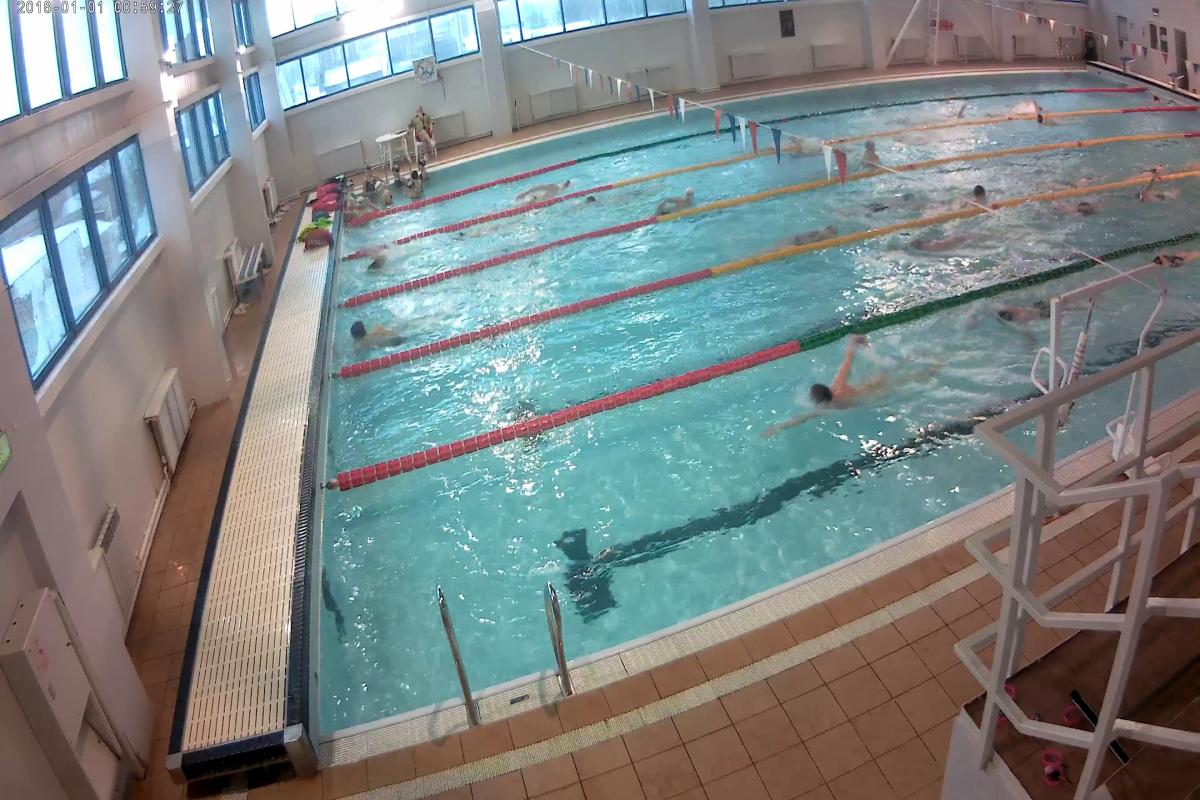swimmer: (779, 368, 936, 430), (346, 318, 417, 352), (994, 296, 1061, 328), (916, 232, 1005, 256)
